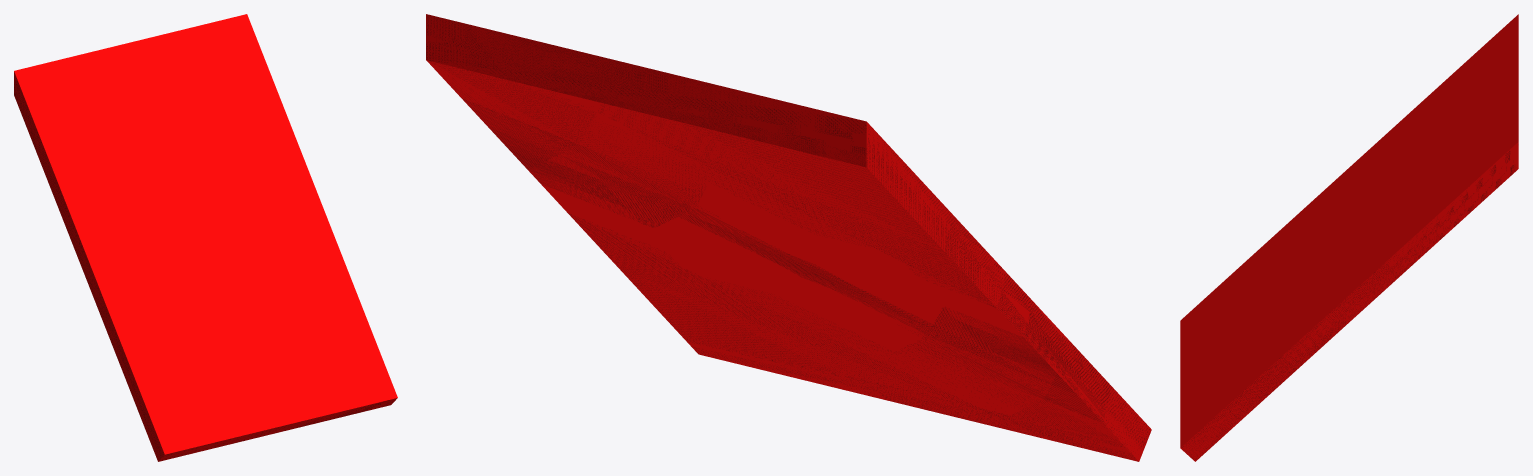
File: roof_side.fbx
3 renders of one model, left to right at view 1: azimuth 30°, elevation 25°; view 2: azimuth 150°, elevation 25°; view 3: azimuth 270°, elevation 25°, orthographic. The views are drawn at different scales.
Visible parts, largest first — view 1: Mesh1_sloped_roof1 Model; view 2: Mesh1_sloped_roof1 Model; view 3: Mesh1_sloped_roof1 Model.
Boxes of the visible parts, <box> form: Mesh1_sloped_roof1 Model: <box>14,14,397,461</box>; Mesh1_sloped_roof1 Model: <box>426,14,1151,461</box>; Mesh1_sloped_roof1 Model: <box>1180,14,1518,461</box>.
Bounding box in the file's own units: 1 × 1.17 × 1.12.
